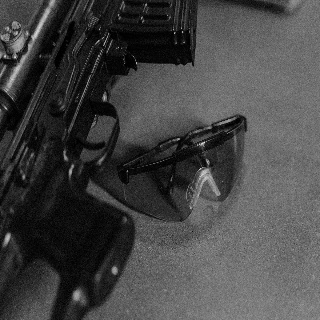rifle: (1, 1, 199, 320)
